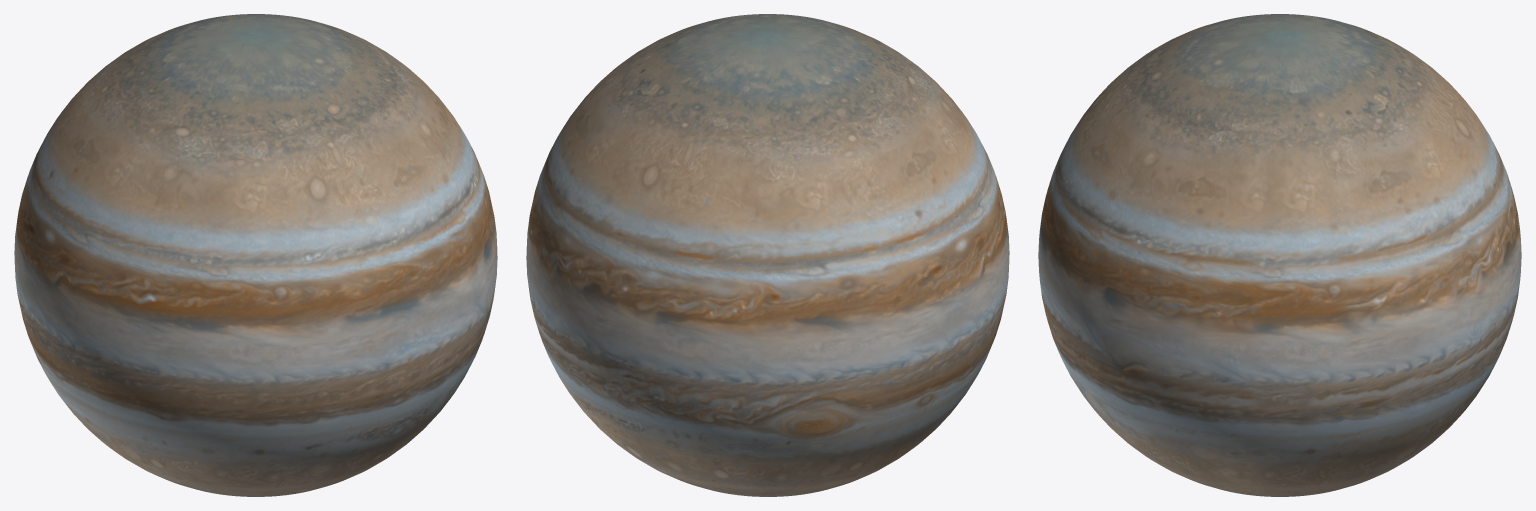
The model's file is Jupiter.glb.
The picture shows the model from 3 angles, left to right: view 1: azimuth 30°, elevation 25°; view 2: azimuth 150°, elevation 25°; view 3: azimuth 270°, elevation 25°; orthographic projection.
Parts seen in each view (by area): view 1: Sphere.3; view 2: Sphere.3; view 3: Sphere.3.
Boxes of the visible parts, x1,y1,x2,y2 form: Sphere.3: (14, 14, 497, 496); Sphere.3: (526, 14, 1009, 496); Sphere.3: (1038, 14, 1521, 496).
Bounding box in the file's own units: 73.48 × 73.48 × 73.48.
Materials: 1 (1 with a texture image).
